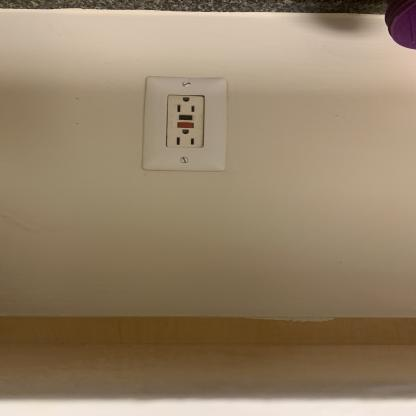OUTLET: (141, 78, 228, 172)
